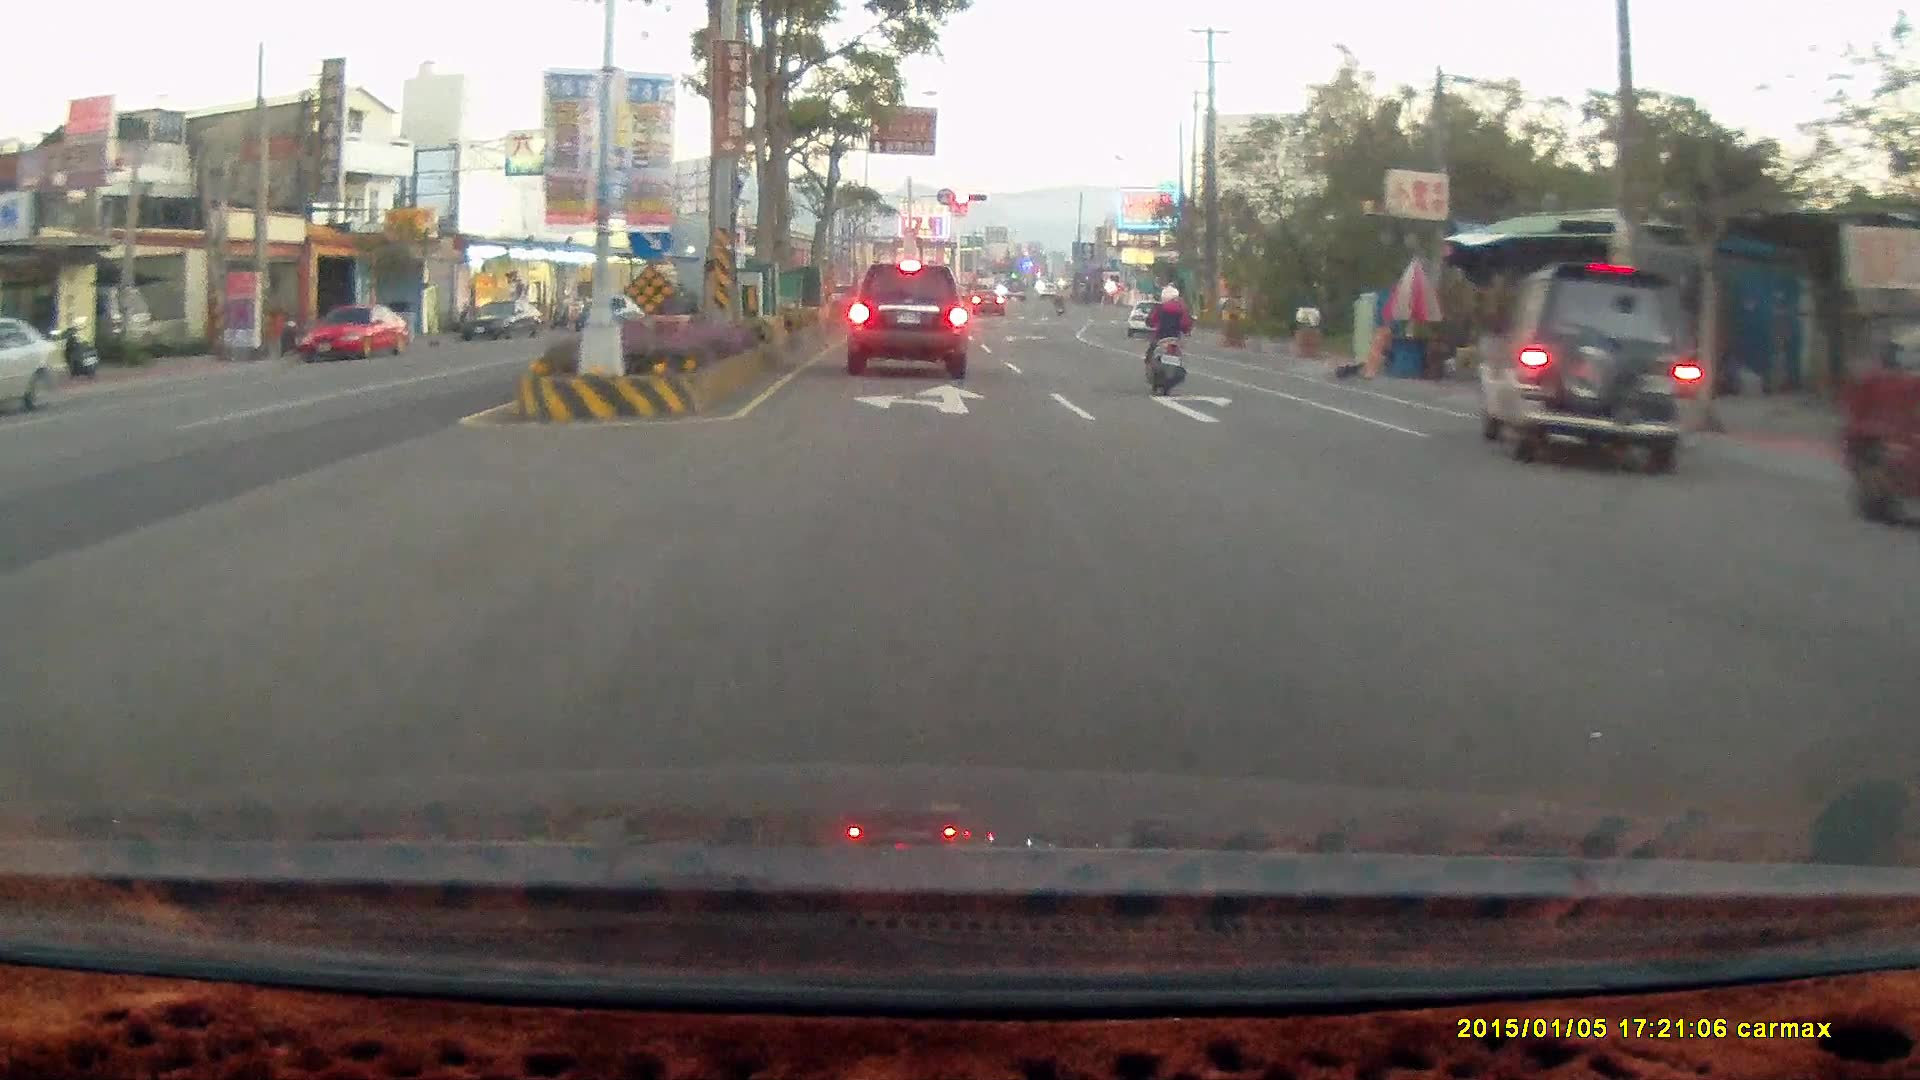rider: (1140, 281, 1191, 397)
vehicle: (1471, 259, 1703, 476), (1479, 261, 1704, 473), (1835, 265, 1920, 522), (1837, 294, 1920, 525), (844, 262, 966, 378), (1896, 493, 1920, 836), (296, 299, 412, 365), (296, 302, 410, 363), (1, 316, 68, 417), (1883, 528, 1920, 690), (467, 300, 546, 350), (1127, 301, 1181, 340)
